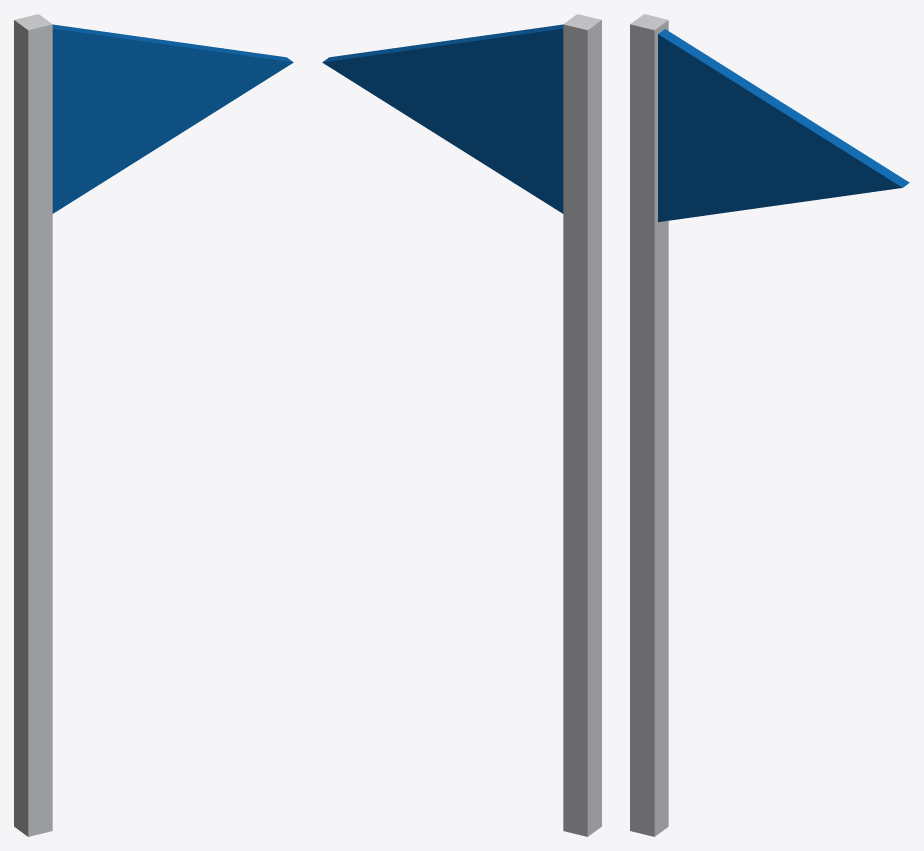
Rendered from Flag_blue_01.obj.
3 views of the same model, side by side, from view 1: azimuth 30°, elevation 25°; view 2: azimuth 150°, elevation 25°; view 3: azimuth 330°, elevation 25° (orthographic).
Visible parts, largest first — view 1: Mesh1_Flag_blue_Model; view 2: Mesh1_Flag_blue_Model; view 3: Mesh1_Flag_blue_Model.
Boxes of the visible parts, x1,y1,x2,y2 form: Mesh1_Flag_blue_Model: [14, 14, 293, 836]; Mesh1_Flag_blue_Model: [322, 14, 601, 836]; Mesh1_Flag_blue_Model: [630, 14, 909, 836].
Size of the model in its own units: 2.2 by 6.3 by 0.2.
